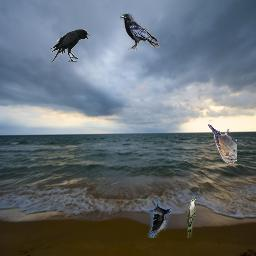Crow: (120, 12, 160, 51), (50, 29, 90, 62), (146, 198, 172, 238)
Cuckoo: (187, 199, 196, 239)
Sparrow: (207, 124, 237, 164)
